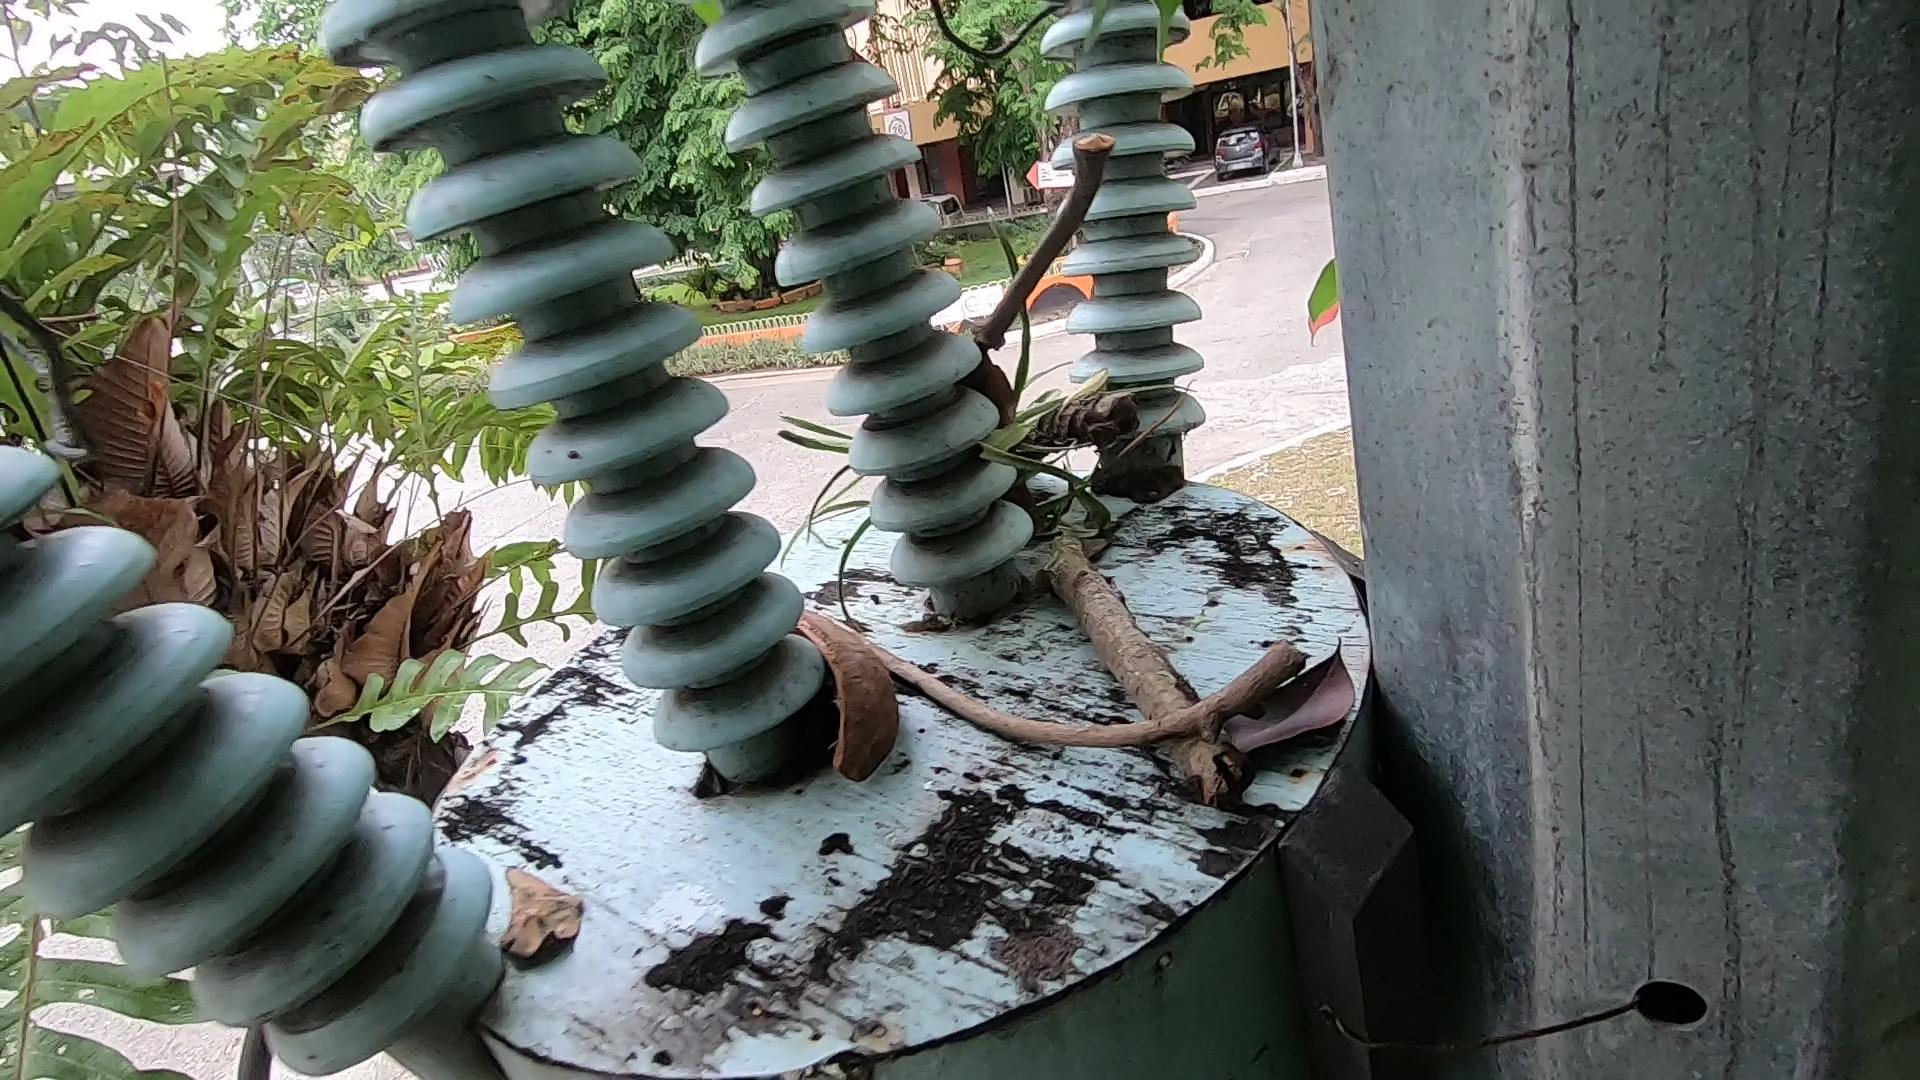branch with leaves: (897, 311, 1253, 855)
leaf: (1262, 644, 1396, 782), (506, 853, 604, 1011)
mahogany fruit: (717, 555, 913, 836), (951, 301, 1089, 605)
tree branch: (812, 601, 1316, 757), (972, 82, 1126, 369)
